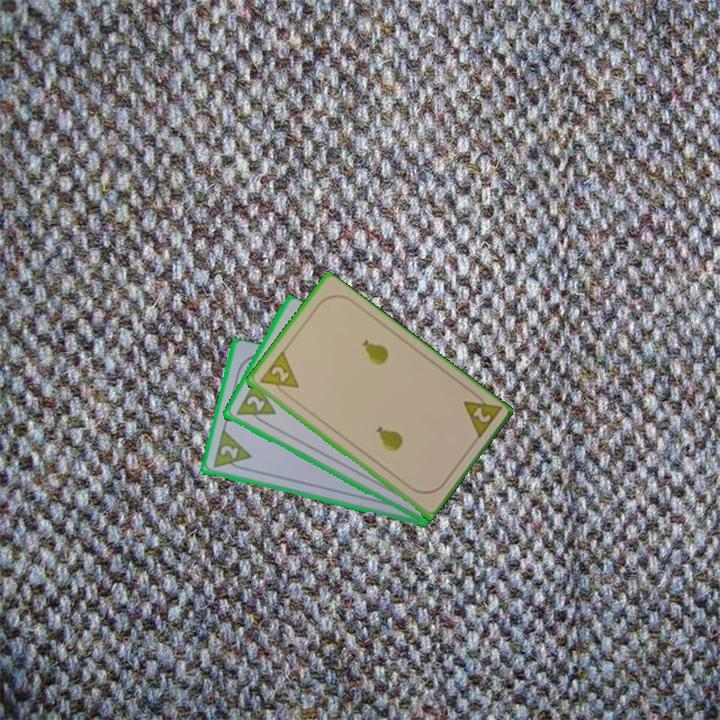2p: (459, 387, 504, 443), (232, 378, 278, 429), (256, 349, 301, 400), (216, 441, 241, 462)
